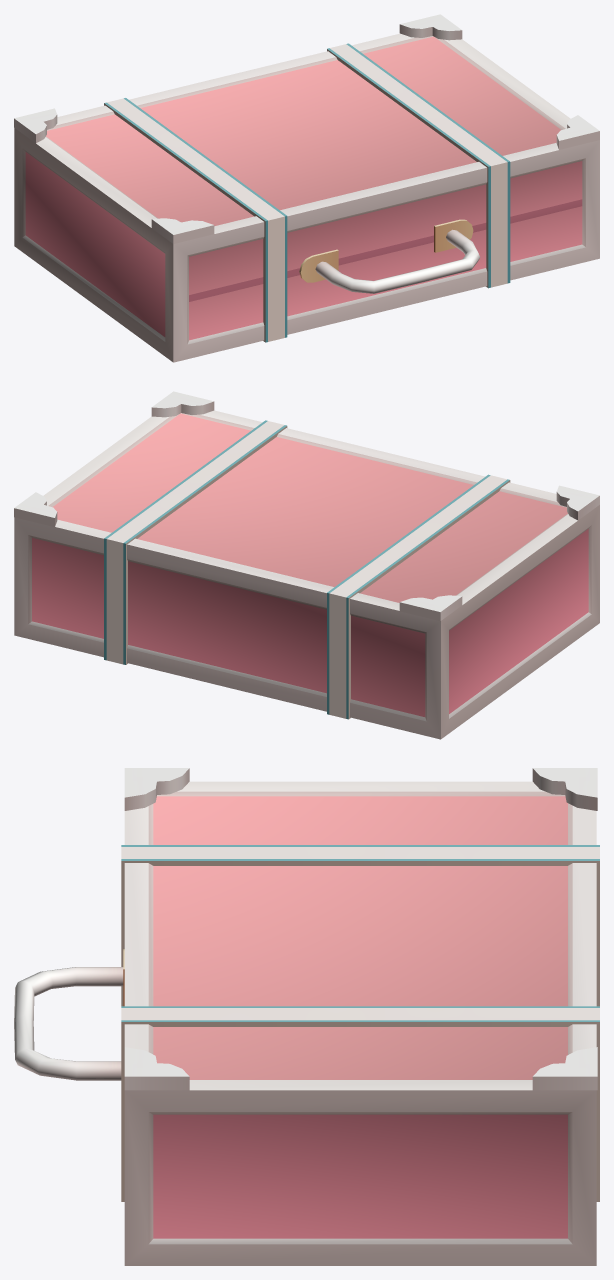
The model's file is Doll_OB_Bag_001.FBX.
3 views of the same model, one above another, from view 1: azimuth 30°, elevation 25°; view 2: azimuth 150°, elevation 25°; view 3: azimuth 270°, elevation 25° (orthographic). The views are drawn at different scales.
Parts seen in each view (by area): view 1: Doll_OB_Bag_001; view 2: Doll_OB_Bag_001; view 3: Doll_OB_Bag_001.
Boxes of the visible parts, bbox=[...] form: Doll_OB_Bag_001: bbox=[14, 14, 599, 362]; Doll_OB_Bag_001: bbox=[14, 391, 599, 739]; Doll_OB_Bag_001: bbox=[14, 768, 599, 1265].
Bounding box in the file's own units: 54.35 × 15.7 × 43.61.
